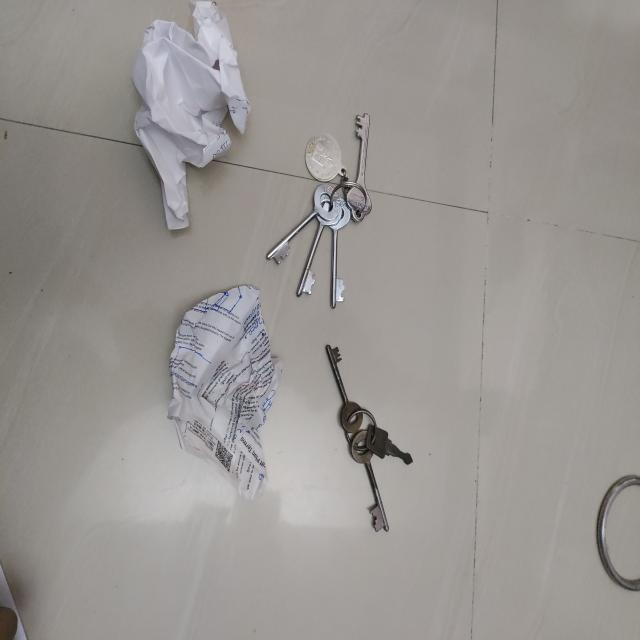dry: (131, 5, 252, 234), (171, 284, 283, 504), (266, 111, 376, 309), (326, 341, 413, 532), (595, 471, 640, 597)
